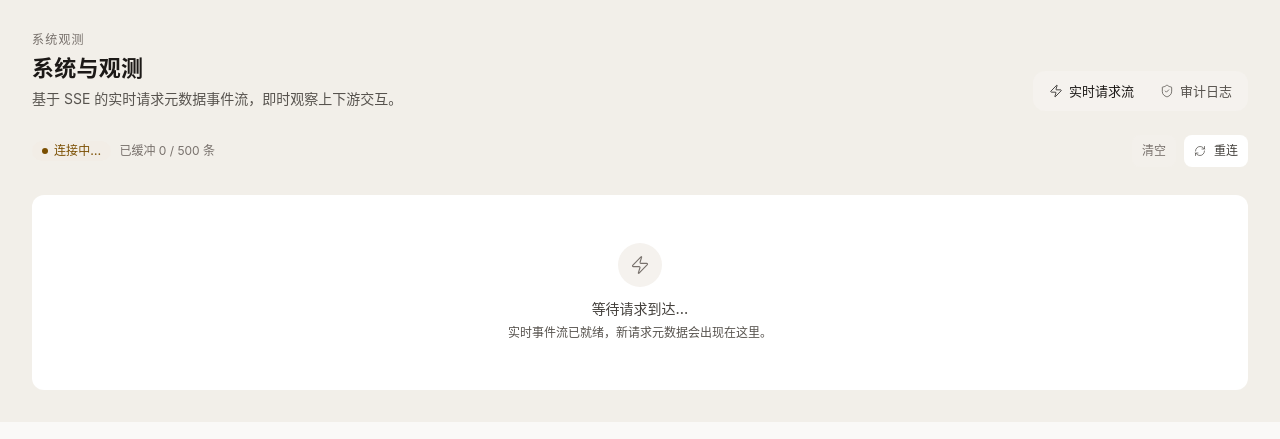
Test: ObservabilityView › switches between live and audit tabs and updates router query
Click the tab with test id "tab-audit".
click(1196, 91)  # box [1148,75,1244,107]
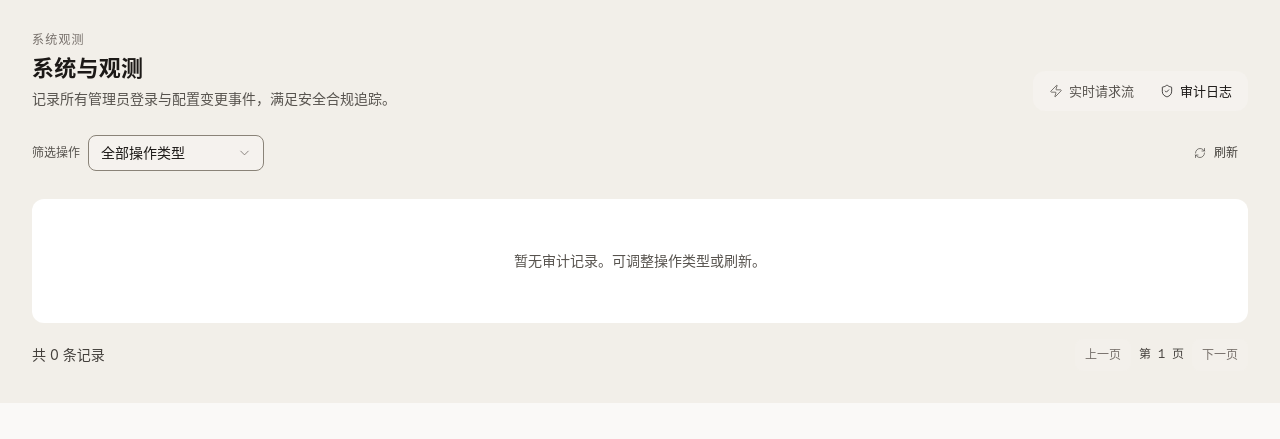
Check: the panel with id "tabpanel-audit" is shown, box [32,135,1248,371]
Click the tab with test id "tab-live".
click(1092, 91)  # box [1037,75,1146,107]
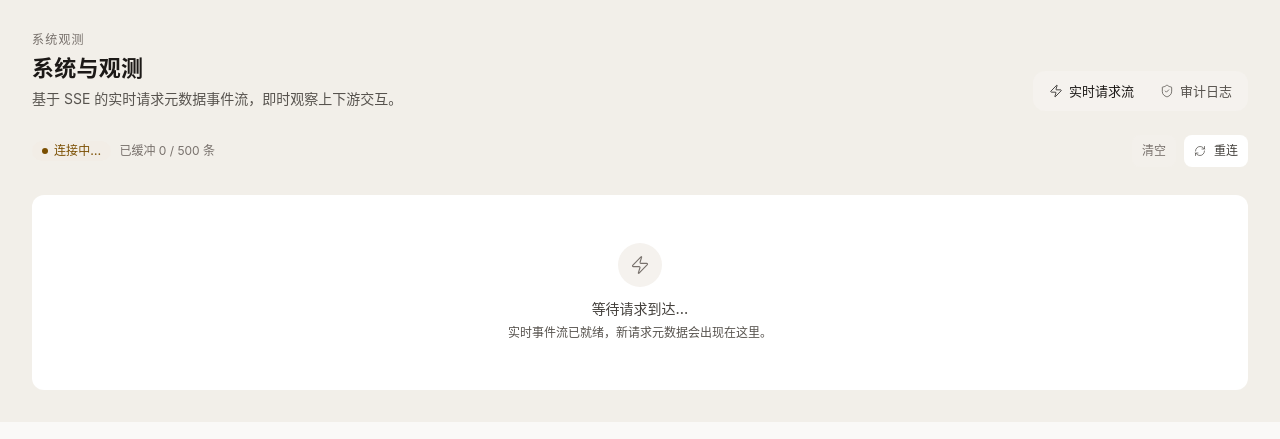
Check: the panel with id "tabpanel-live" is shown, box [32,135,1248,390]
